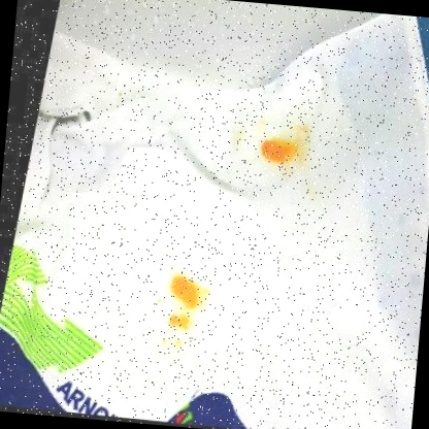kimchi: (257, 137, 307, 174), (168, 277, 203, 310), (169, 310, 196, 331), (161, 333, 181, 350), (299, 123, 319, 137), (158, 299, 163, 306)
